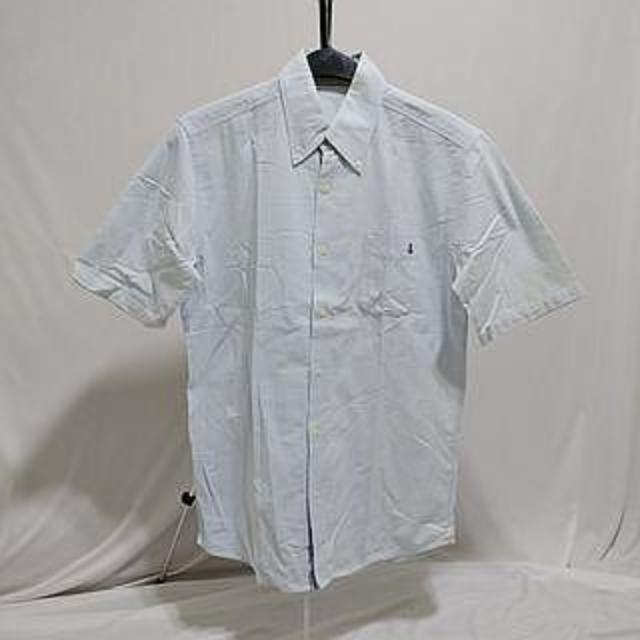SHIRT: (55, 30, 596, 597)
